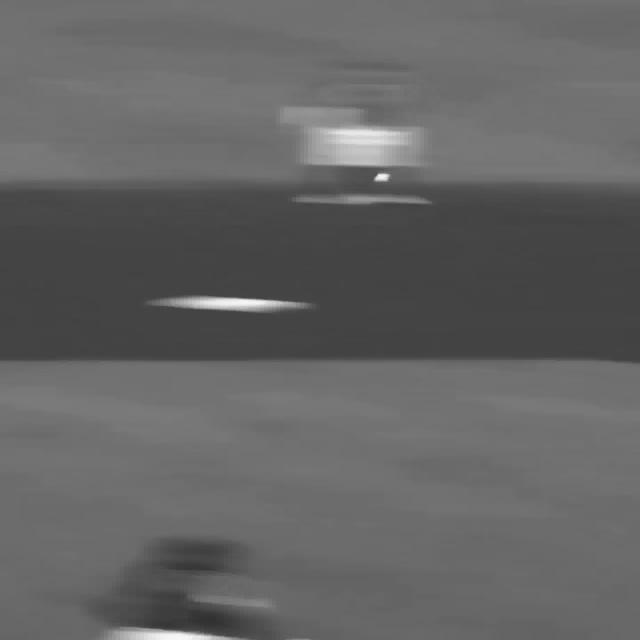base: (144, 294, 316, 312)
baseball: (372, 172, 390, 182)
